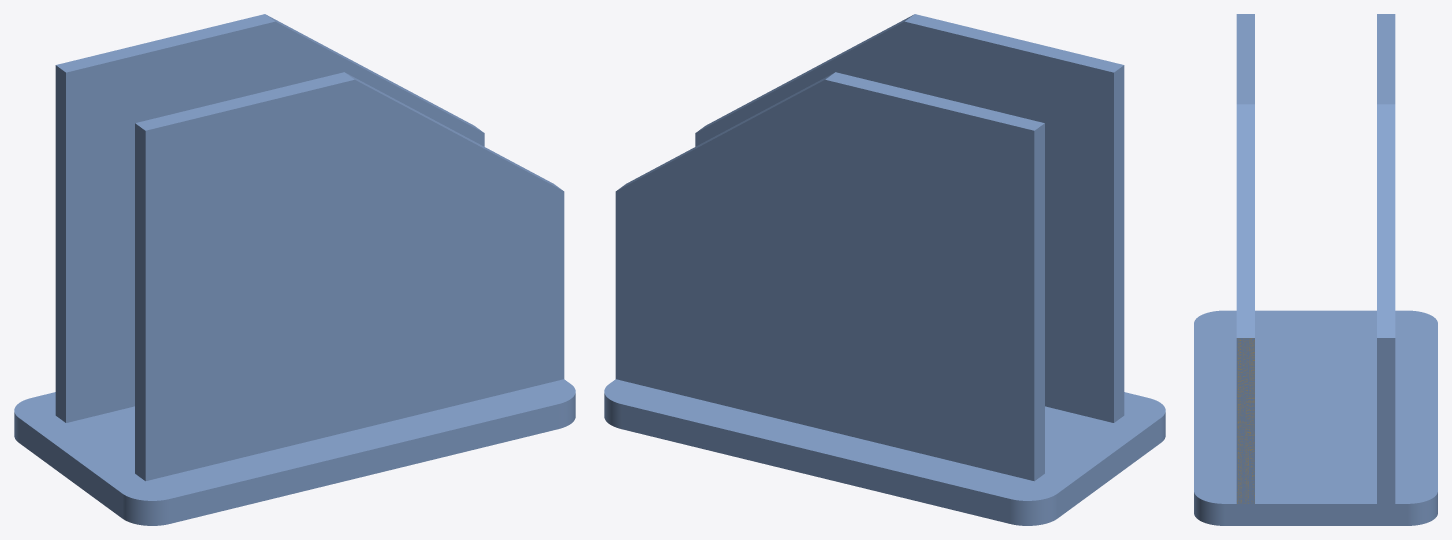
The model's file is step_02.glb.
The picture shows the model from 3 angles, left to right: view 1: azimuth 30°, elevation 25°; view 2: azimuth 150°, elevation 25°; view 3: azimuth 270°, elevation 25°; orthographic projection. The views are drawn at different scales.
Parts seen in each view (by area): view 1: part__base; view 2: part__base; view 3: part__base, added__base.
Part boxes in pixels (<box>): part__base: <box>14,14,575,525</box>; part__base: <box>604,14,1165,525</box>; part__base: <box>1194,14,1437,525</box>; added__base: <box>1237,338,1254,503</box>.
Size of the model in its own units: 75 by 60 by 40.
